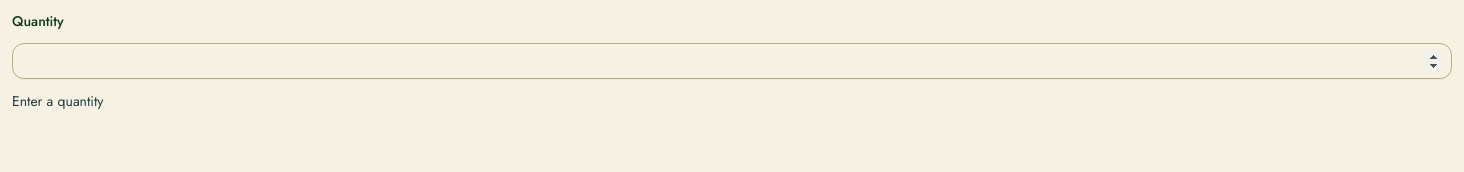
Test case: NumberField › negative numbers
The image size is (1464, 172).
Step 1. Type "-10" into the number field labelled "Quantity" → (732,61), box [12, 43, 1452, 79]
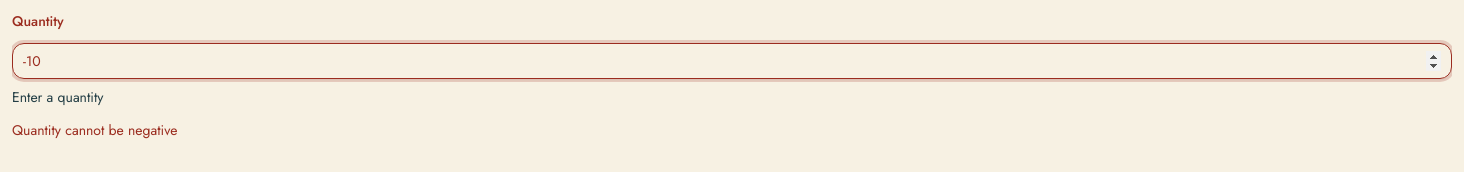
Check: the text "Quantity cannot be negative" is shown, box [12, 120, 177, 140]
